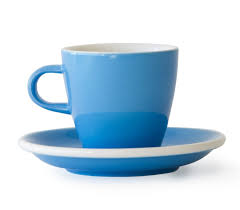cup: (25, 41, 186, 149)
